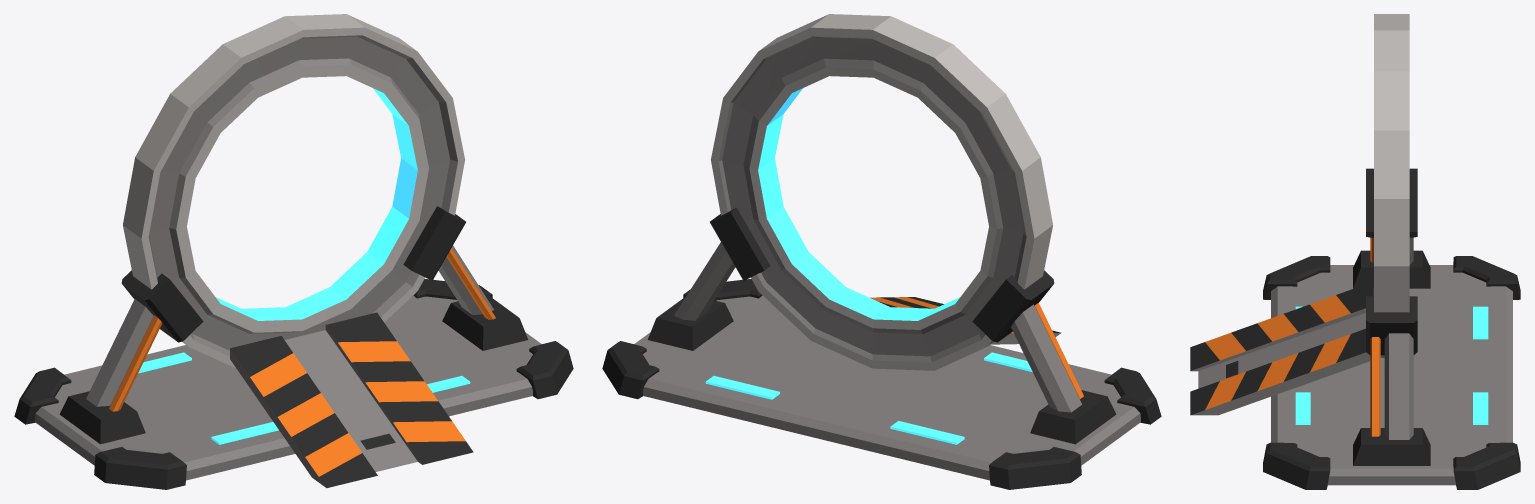
The model's file is scifi_scifi-portal.fbx.
The picture shows the model from 3 angles, left to right: view 1: azimuth 30°, elevation 25°; view 2: azimuth 150°, elevation 25°; view 3: azimuth 270°, elevation 25°; orthographic projection. The views are drawn at different scales.
Visible parts, largest first — view 1: scifi_scifi_portal; view 2: scifi_scifi_portal; view 3: scifi_scifi_portal.
Part boxes in pixels (x1=…): scifi_scifi_portal: x1=14, y1=14, x2=573, y2=489; scifi_scifi_portal: x1=602, y1=14, x2=1161, y2=489; scifi_scifi_portal: x1=1190, y1=14, x2=1520, y2=489.
Size of the model in its own units: 200 by 151 by 129.
